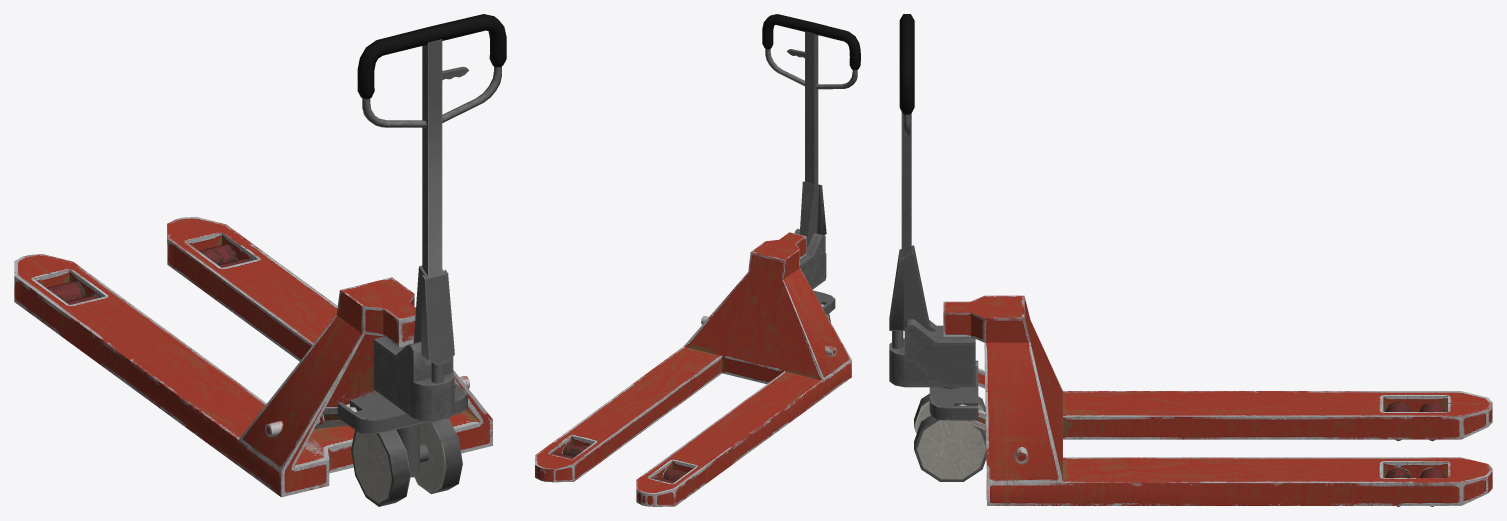
The picture shows the model from 3 angles, left to right: view 1: azimuth 30°, elevation 25°; view 2: azimuth 150°, elevation 25°; view 3: azimuth 270°, elevation 25°; orthographic projection. The views are drawn at different scales.
Visible parts, largest first — view 1: jacklow; view 2: jacklow; view 3: jacklow.
Boxes of the visible parts, x1,y1,x2,y2 form: jacklow: [14, 14, 506, 506]; jacklow: [535, 14, 860, 506]; jacklow: [889, 14, 1492, 506].
Bounding box in the file's own units: 0.7015 × 1.53 × 1.95.
Materials: 1 (1 with a texture image).
